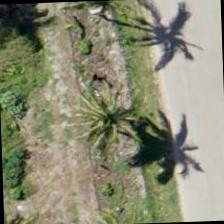Kelapa_Sawit: (58, 76, 151, 169)
